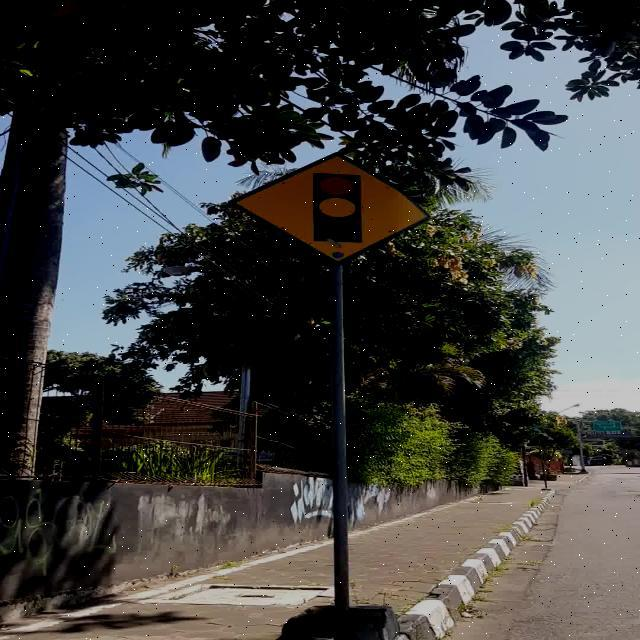Lampu Lalu Lintas: (228, 151, 431, 264)
